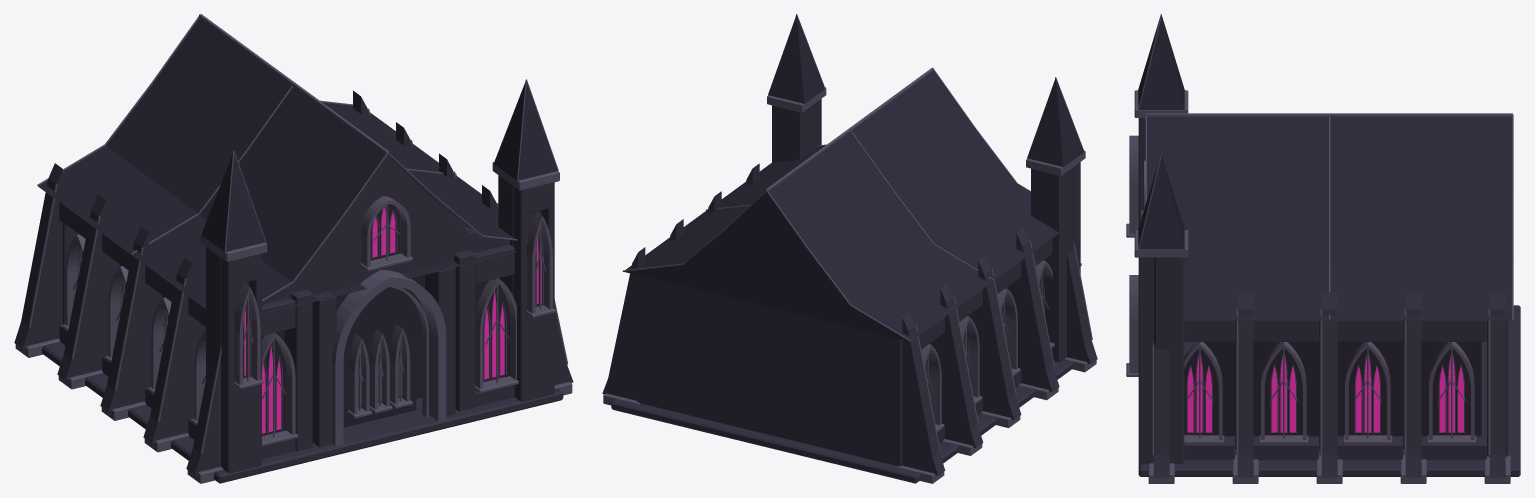
Rendered from obsidian-great-hall.glb.
3 views of the same model, side by side, from view 1: azimuth 30°, elevation 25°; view 2: azimuth 150°, elevation 25°; view 3: azimuth 270°, elevation 25° (orthographic). The views are drawn at different scales.
Parts seen in each view (by area): view 1: obsidian-great-hall; view 2: obsidian-great-hall; view 3: obsidian-great-hall.
Boxes of the visible parts, bbox=[...] form: obsidian-great-hall: bbox=[14, 14, 573, 483]; obsidian-great-hall: bbox=[602, 14, 1097, 483]; obsidian-great-hall: bbox=[1126, 14, 1520, 483].
Bounding box in the file's own units: 28 × 22.51 × 25.8.
